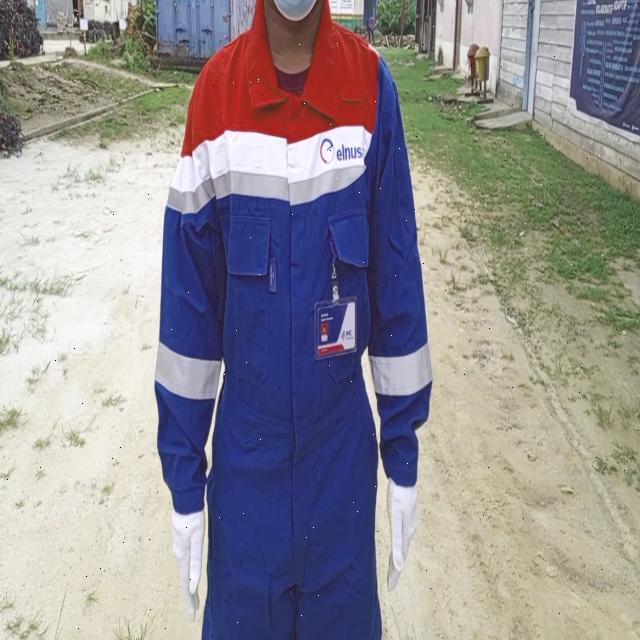Gloves: (169, 501, 206, 624), (382, 483, 421, 589)
Mask: (262, 0, 328, 23)
Overall Suit: (153, 21, 432, 640)
